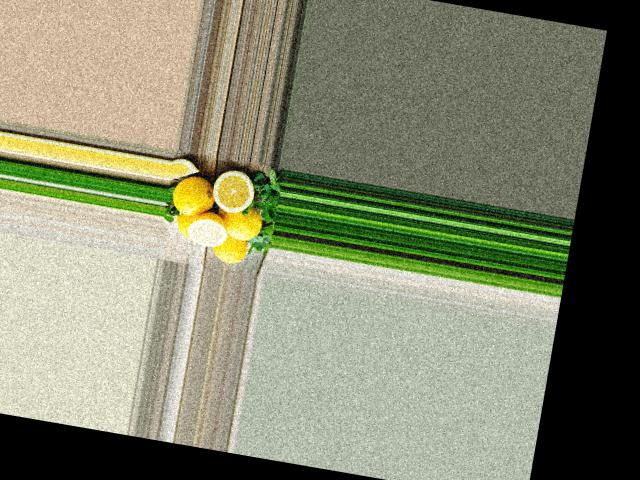lemon: (172, 209, 199, 241)
